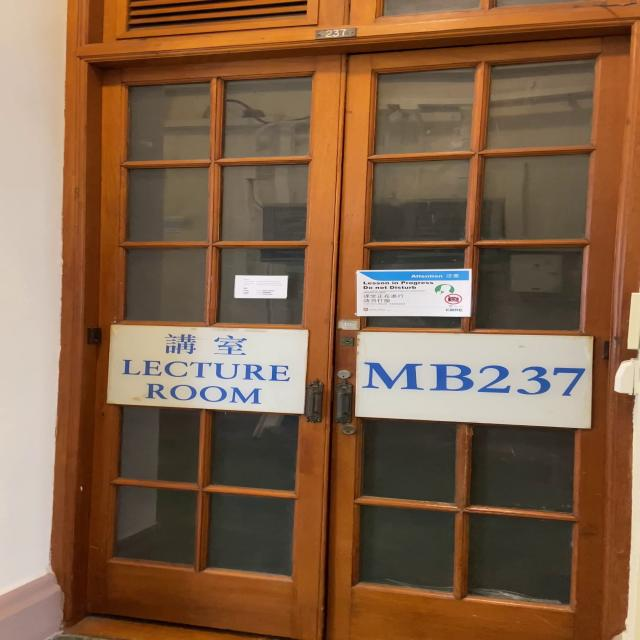room237: (313, 27, 356, 40)
room237Window: (360, 332, 590, 418)
